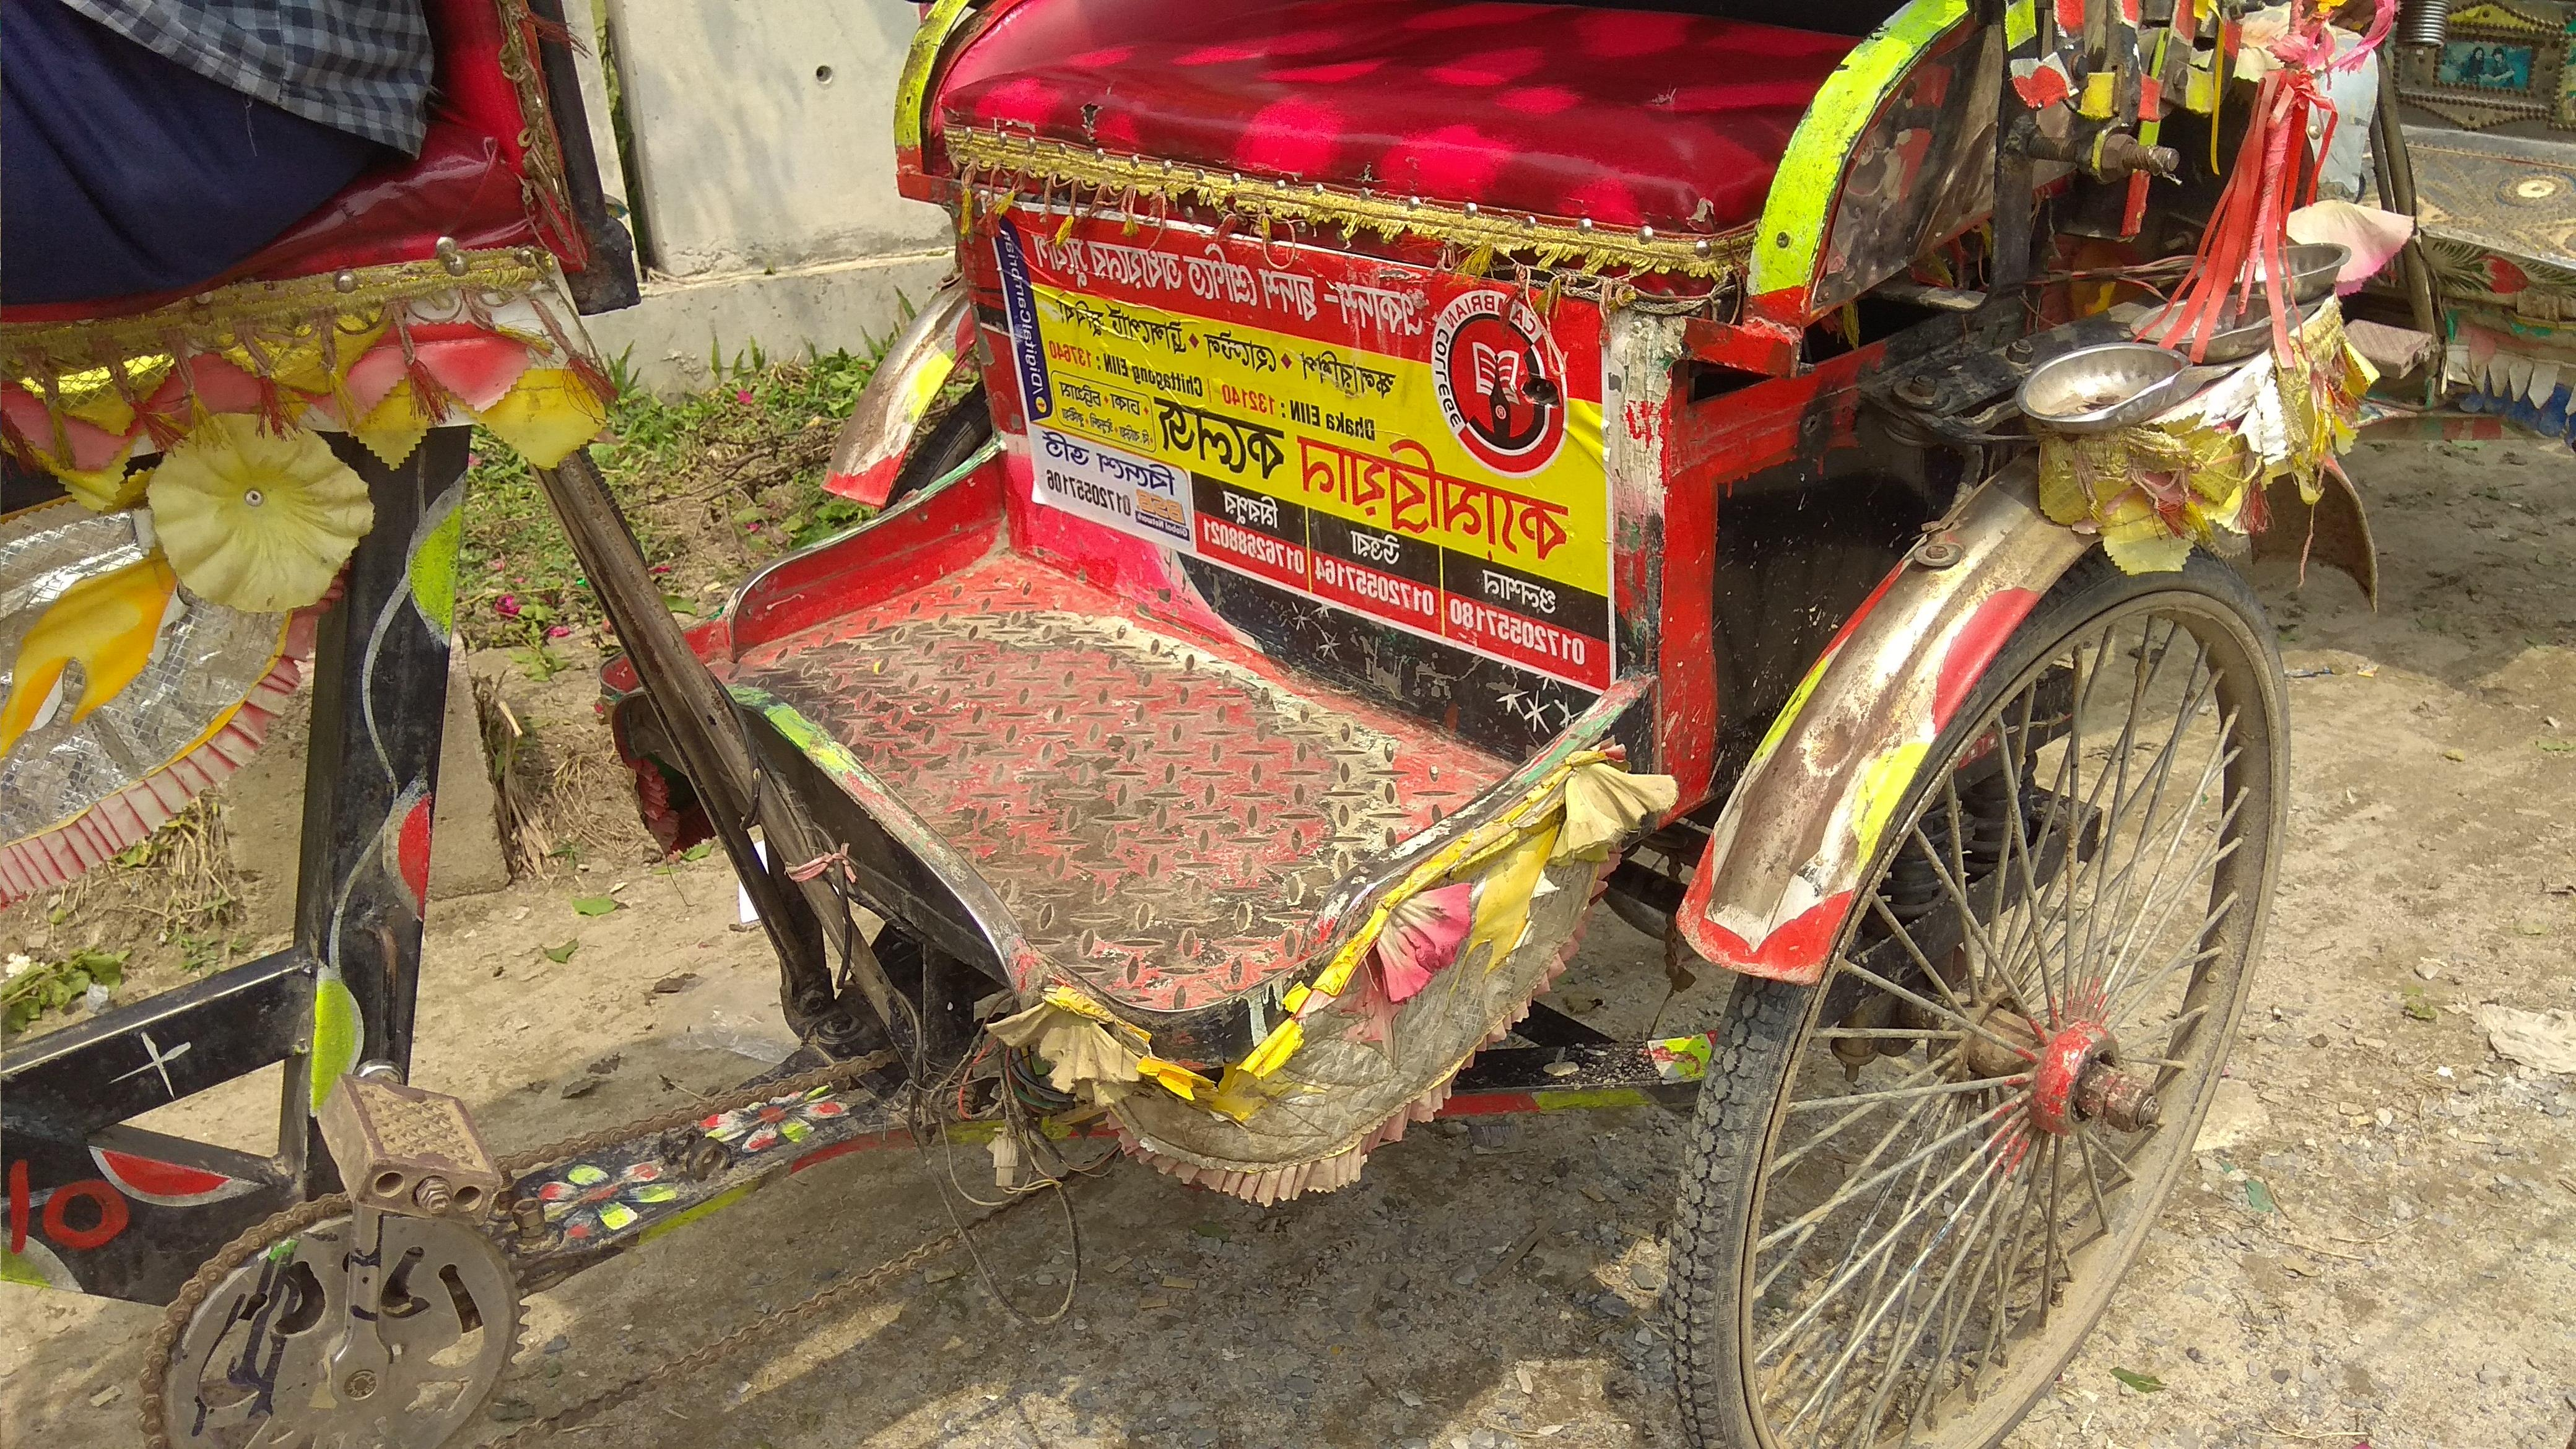Rickshaw: (16, 2, 2426, 1384)
